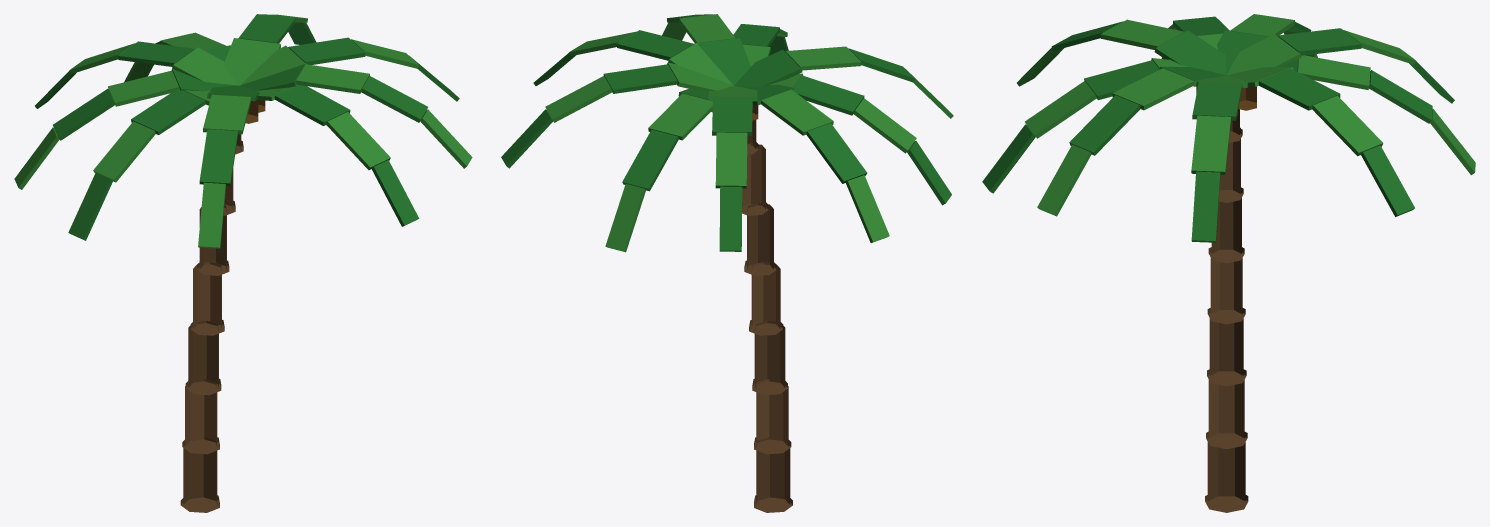
Rendered from palm_0.glb.
3 views of the same model, side by side, from view 1: azimuth 30°, elevation 25°; view 2: azimuth 150°, elevation 25°; view 3: azimuth 270°, elevation 25° (orthographic). The views are drawn at different scales.
Visible parts, largest first — view 1: palm_0; view 2: palm_0; view 3: palm_0.
Boxes of the visible parts, <box> form: palm_0: <box>14,14,472,512</box>; palm_0: <box>501,14,953,512</box>; palm_0: <box>982,14,1475,512</box>.
Bounding box in the file's own units: 5.19 × 5.37 × 5.09.
